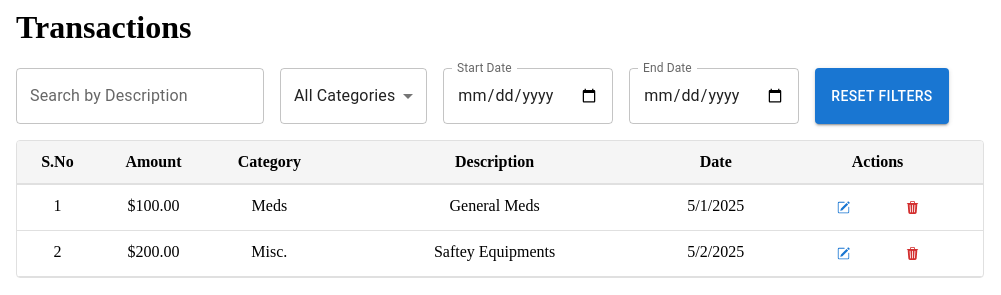
TransactionsPage Component › filters transactions by date range
The image size is (1001, 295).
Type "2025-05-02" into the date field labelled "Start Date" at (528, 96), box [443,68,613,124]
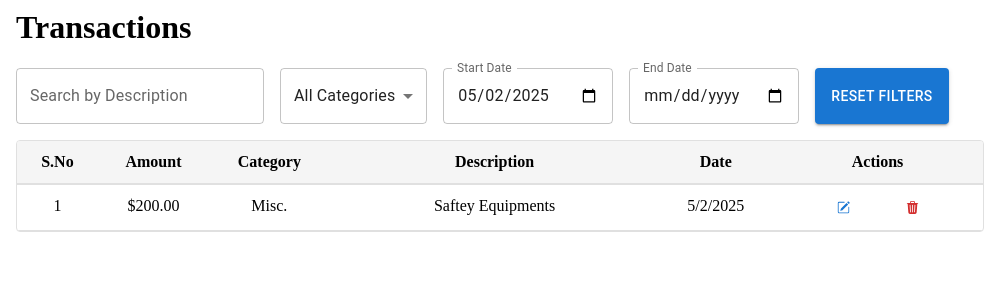
Expected: the text "Saftey Equipments" is shown, [330,184,660,230]
Now the text "General Meds" is gone
